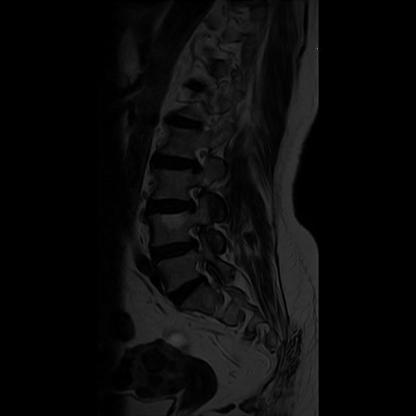Disc Bulgerotation: (144, 238, 208, 264), (140, 194, 202, 220), (148, 151, 209, 175)
